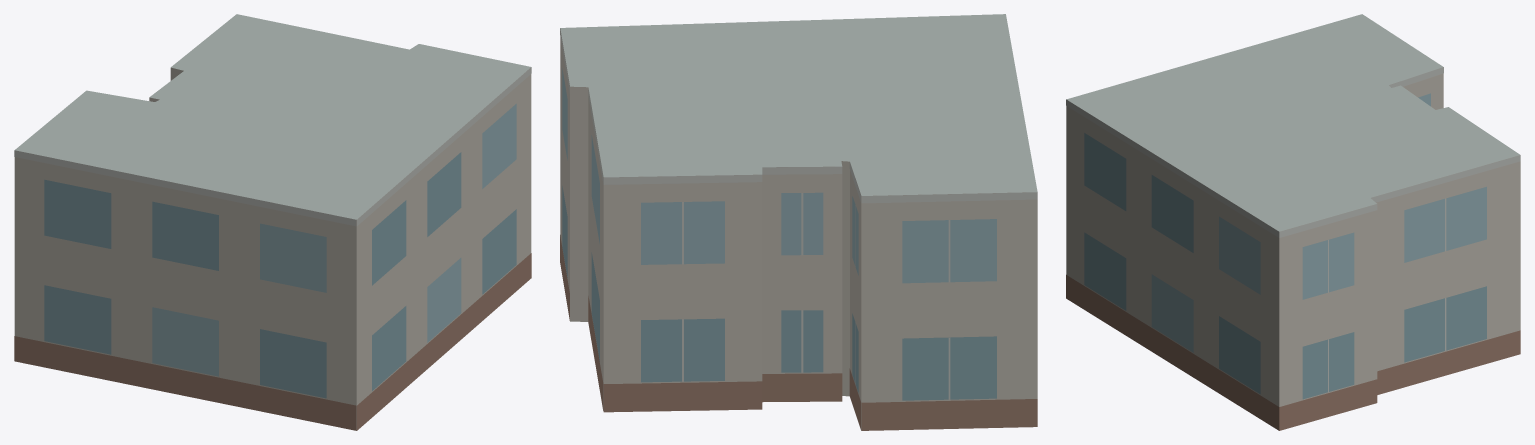
The model's file is survey-upis-32624869.glb.
The picture shows the model from 3 angles, left to right: view 1: azimuth 30°, elevation 25°; view 2: azimuth 150°, elevation 25°; view 3: azimuth 270°, elevation 25°; orthographic projection. The views are drawn at different scales.
Visible parts, largest first — view 1: survey-upis-32624869.tmp; view 2: survey-upis-32624869.tmp; view 3: survey-upis-32624869.tmp.
Boxes of the visible parts, box(x1,y1,x2,y2) form: survey-upis-32624869.tmp: box(14, 14, 531, 430); survey-upis-32624869.tmp: box(560, 14, 1037, 430); survey-upis-32624869.tmp: box(1066, 14, 1520, 430).
Size of the model in its own units: 18.07 by 7.7 by 15.94.
